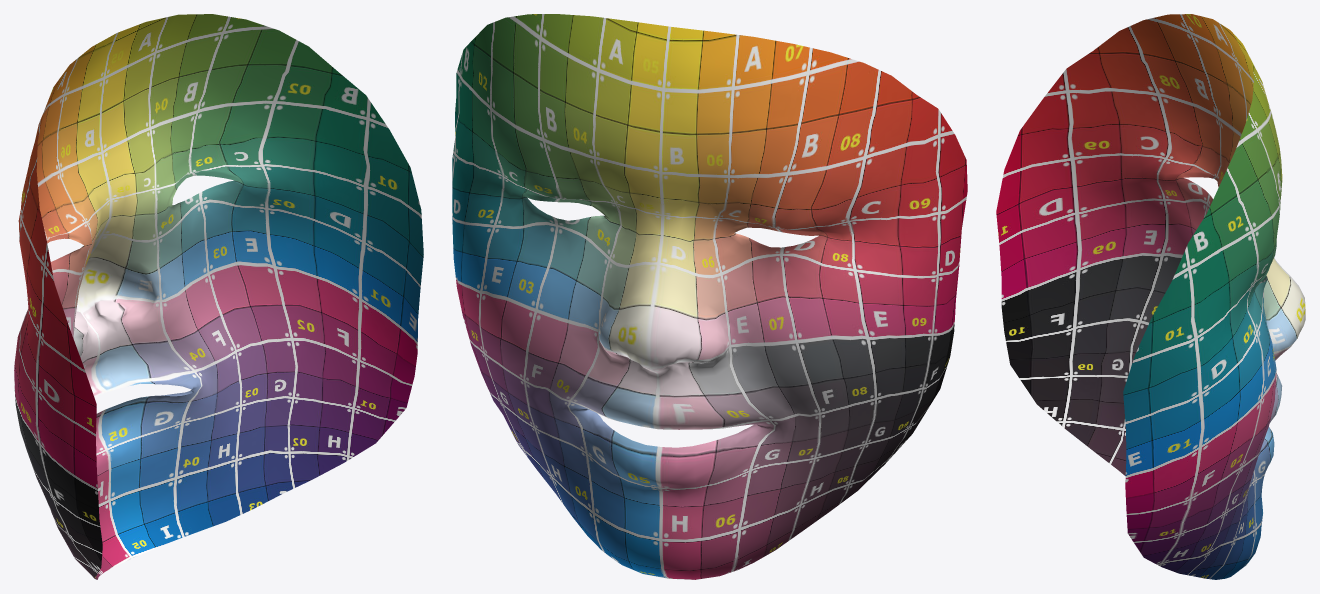
Rendered from SampleARFace.fbx.
The picture shows the model from 3 angles, left to right: view 1: azimuth 30°, elevation 25°; view 2: azimuth 150°, elevation 25°; view 3: azimuth 270°, elevation 25°; orthographic projection. The views are drawn at different scales.
Visible parts, largest first — view 1: ARFace_F04E81834073C312_6AA97C91EC6BE88F; view 2: ARFace_F04E81834073C312_6AA97C91EC6BE88F; view 3: ARFace_F04E81834073C312_6AA97C91EC6BE88F.
Boxes of the visible parts, x1,y1,x2,y2 form: ARFace_F04E81834073C312_6AA97C91EC6BE88F: (14, 14, 423, 579); ARFace_F04E81834073C312_6AA97C91EC6BE88F: (452, 14, 967, 579); ARFace_F04E81834073C312_6AA97C91EC6BE88F: (996, 14, 1305, 579).
Bounding box in the file's own units: 15.89 × 19.13 × 10.51.
